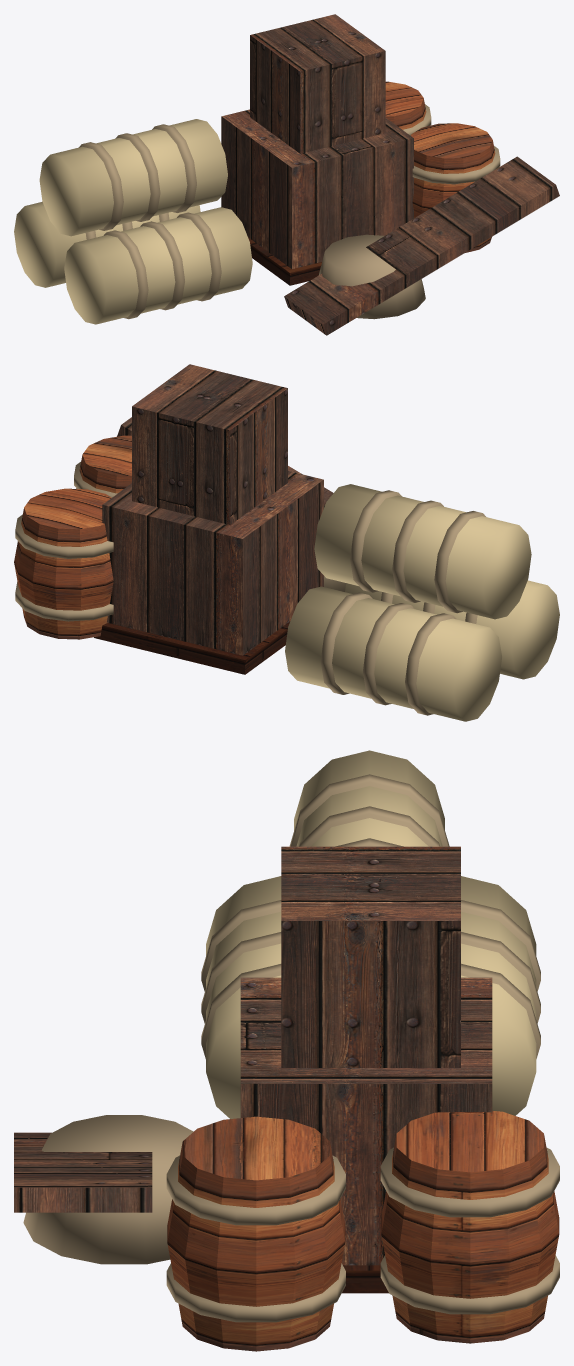
Rendered from harbor_cargo.glb.
3 renders of one model, top to bottom at view 1: azimuth 30°, elevation 25°; view 2: azimuth 150°, elevation 25°; view 3: azimuth 270°, elevation 25°, orthographic. The views are drawn at different scales.
Parts seen in each view (by area): view 1: harbor_cargo_harbor_planks, harbor_cargo_straw_bale, harbor_cargo_hemp_rope, harbor_cargo_cedar, harbor_cargo_charred; view 2: harbor_cargo_harbor_planks, harbor_cargo_straw_bale, harbor_cargo_cedar, harbor_cargo_hemp_rope, harbor_cargo_charred; view 3: harbor_cargo_harbor_planks, harbor_cargo_cedar, harbor_cargo_hemp_rope, harbor_cargo_straw_bale, harbor_cargo_charred.
Boxes of the visible parts, bbox=[...] form: harbor_cargo_harbor_planks: bbox=[221, 14, 559, 335]; harbor_cargo_straw_bale: bbox=[14, 119, 252, 324]; harbor_cargo_hemp_rope: bbox=[79, 104, 500, 319]; harbor_cargo_cedar: bbox=[385, 81, 495, 252]; harbor_cargo_charred: bbox=[248, 237, 321, 285]; harbor_cargo_harbor_planks: bbox=[102, 364, 333, 655]; harbor_cargo_straw_bale: bbox=[285, 484, 559, 721]; harbor_cargo_cedar: bbox=[14, 435, 131, 639]; harbor_cargo_hemp_rope: bbox=[15, 462, 485, 715]; harbor_cargo_charred: bbox=[94, 621, 290, 674]; harbor_cargo_harbor_planks: bbox=[14, 846, 492, 1265]; harbor_cargo_cedar: bbox=[167, 1110, 559, 1351]; harbor_cargo_hemp_rope: bbox=[23, 774, 559, 1322]; harbor_cargo_straw_bale: bbox=[206, 750, 536, 1118]; harbor_cargo_charred: bbox=[342, 1265, 388, 1293].
Bounding box in the file's own units: 2.64 × 1.26 × 1.74.
Materials: 5 (3 with a texture image).
